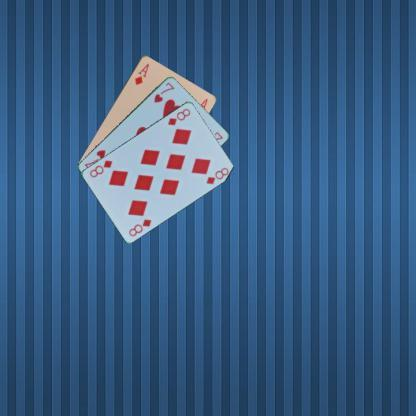7h: (150, 80, 176, 104)
8d: (126, 216, 152, 238), (165, 106, 192, 127)
Ad: (132, 61, 150, 86)
